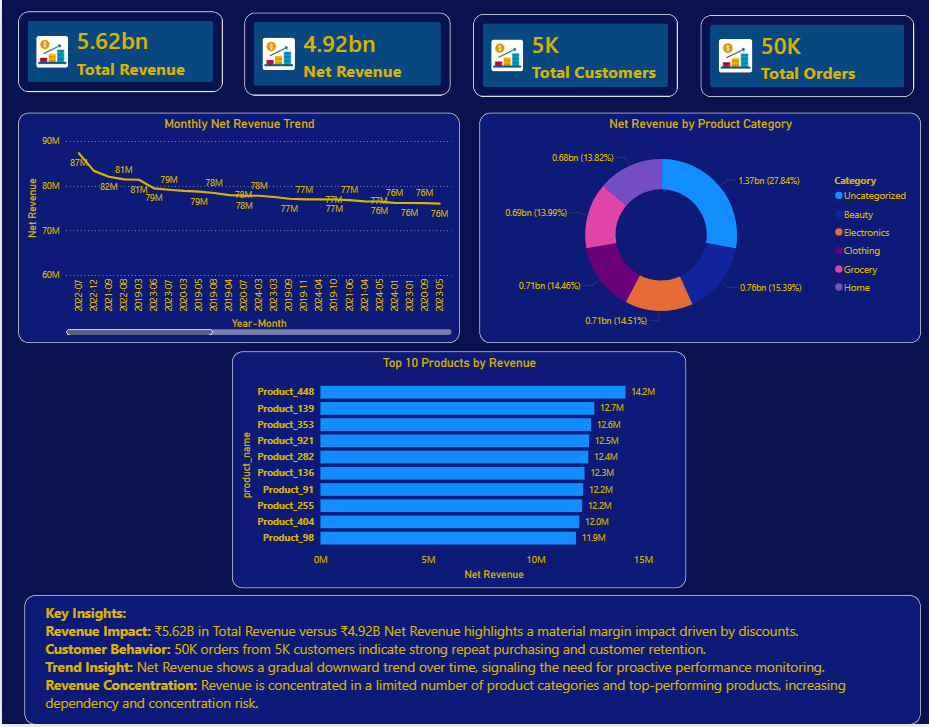

What the dashboard file says about the page in this screenshot:
{"tool":"powerbi","page":{"name":"Excecutive Overview","canvas":[1280,1000],"ordinal":0},"visuals":[{"type":"cardVisual","fields":{"Data":["_Measures.Total Revenue"]},"box":[21.7,17.4,282.6,111.6],"z":0},{"type":"cardVisual","fields":{"Data":["_Measures.Net Revenue"]},"box":[334.8,18.8,284.1,114.5],"z":1000},{"type":"cardVisual","fields":{"Data":["_Measures.Total Customers"]},"box":[649.3,20.3,282.6,114.5],"z":2000},{"type":"cardVisual","fields":{"Data":["_Measures.Total Orders"]},"box":[963.8,21.7,294.2,113],"z":3000},{"type":"lineChart","title":"Monthly Net Revenue Trend","fields":{"Category":["Date_Table.Year-Month"],"Y":["_Measures.Net Revenue"]},"box":[21.7,156.5,608.7,317.4],"z":4000},{"type":"donutChart","title":"Net Revenue by Product Category","fields":{"Category":["dim_products.category"],"Y":["_Measures.Net Revenue"]},"box":[659.4,156.5,608.7,317.4],"z":5000},{"type":"clusteredBarChart","title":"Top 10 Products by Revenue","fields":{"Y":["_Measures.Net Revenue"],"Category":["dim_products.product_name"]},"box":[317.4,485.5,626.1,326.1],"z":6000},{"type":"textbox","box":[30.4,821.7,1236.2,178.3],"z":7000}]}

Visuals, with their boxes in screenshot pixels (x1, y1, x2, y2), scaled from the page's 1280x1000 canvas onto the 929x727 screenshot:
cardVisual - _Measures.Total Revenue: bbox(16, 13, 221, 94)
cardVisual - _Measures.Net Revenue: bbox(243, 14, 449, 97)
cardVisual - _Measures.Total Customers: bbox(471, 15, 676, 98)
cardVisual - _Measures.Total Orders: bbox(700, 16, 913, 98)
"Monthly Net Revenue Trend" lineChart: bbox(16, 114, 458, 345)
"Net Revenue by Product Category" donutChart: bbox(479, 114, 920, 345)
"Top 10 Products by Revenue" clusteredBarChart: bbox(230, 353, 685, 590)
textbox: bbox(22, 597, 919, 726)
